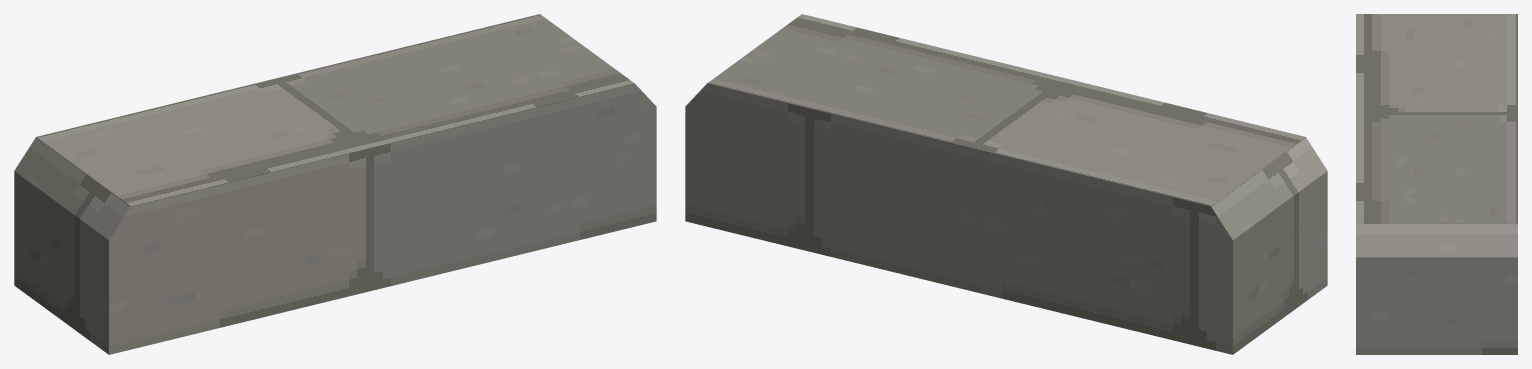
The model's file is gate_sill.glb.
3 renders of one model, left to right at view 1: azimuth 30°, elevation 25°; view 2: azimuth 150°, elevation 25°; view 3: azimuth 270°, elevation 25°, orthographic. The views are drawn at different scales.
Visible parts, largest first — view 1: Gate sill; view 2: Gate sill; view 3: Gate sill.
Boxes of the visible parts, x1,y1,x2,y2 form: Gate sill: [14, 14, 656, 354]; Gate sill: [685, 14, 1327, 354]; Gate sill: [1356, 14, 1517, 354].
Bounding box in the file's own units: 1 × 0.25 × 0.3.
1 material, 1 textured.
